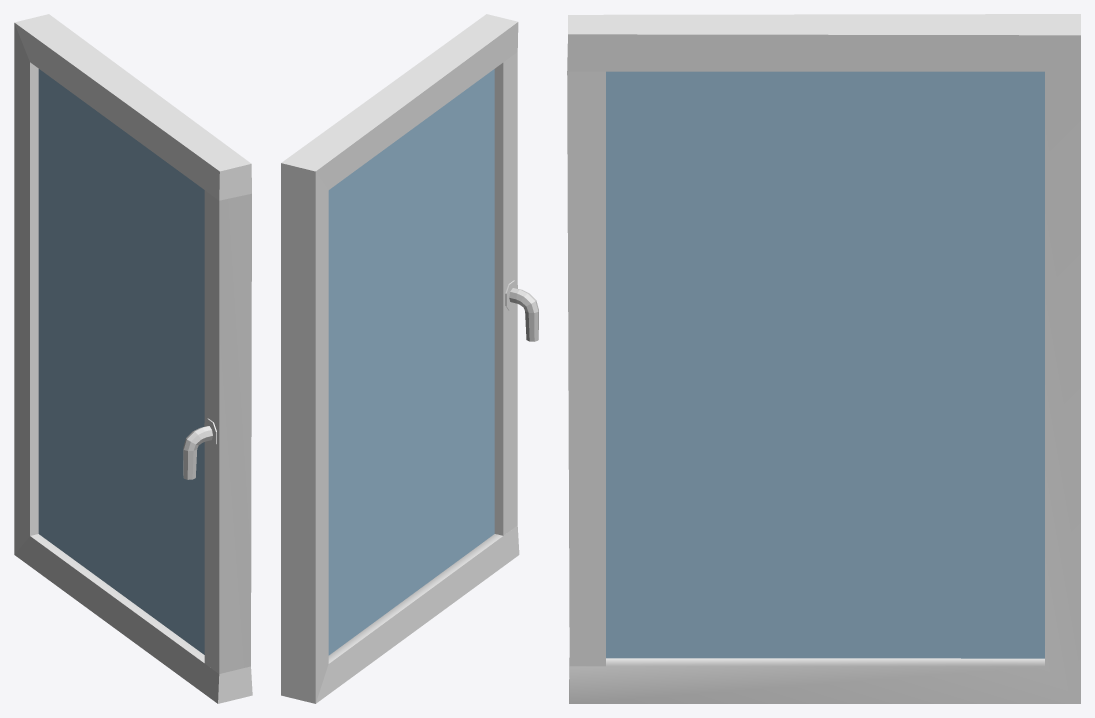
The model's file is fenster.fbx.
3 renders of one model, left to right at view 1: azimuth 30°, elevation 25°; view 2: azimuth 150°, elevation 25°; view 3: azimuth 270°, elevation 25°, orthographic. The views are drawn at different scales.
Parts seen in each view (by area): view 1: fenster; view 2: fenster; view 3: fenster.
Part boxes in pixels (left/top/right/bottom): fenster: left=14, top=14, right=252, bottom=703; fenster: left=281, top=14, right=538, bottom=703; fenster: left=567, top=14, right=1080, bottom=703.
Bounding box in the file's own units: 16.72 × 139 × 96.53.
